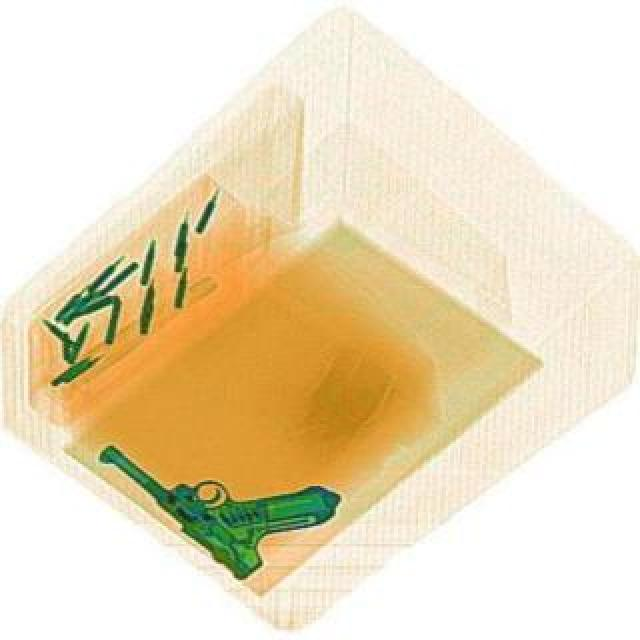gun: (88, 366, 344, 594)
